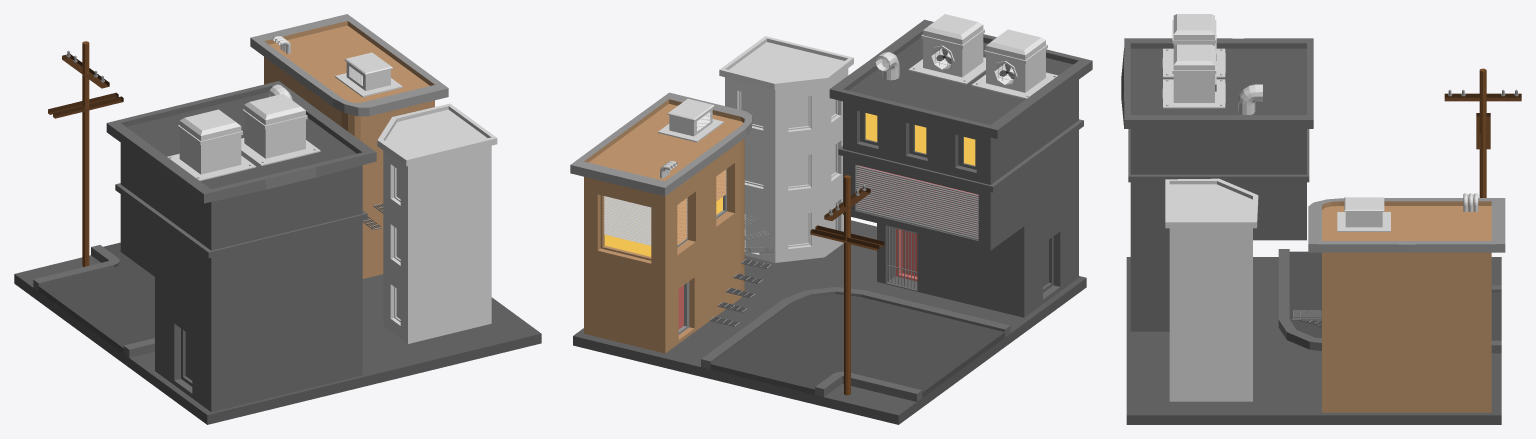
Rendered from cyber.glb.
3 renders of one model, left to right at view 1: azimuth 30°, elevation 25°; view 2: azimuth 150°, elevation 25°; view 3: azimuth 270°, elevation 25°, orthographic. The views are drawn at different scales.
Visible parts, largest first — view 1: Cube.001, Cube.002, Cube, Plane, Plane.001, Cube.005, Cube.006, Plane.009, Cube.007; view 2: Cube.001, Cube, Plane.001, Cube.002, Plane, Vert.005, Cube.006, Cube.005, Plane.009, story.002, Cube.007, Cube.003 (+3 smaller); view 3: Cube, Cube.001, Cube.002, Plane, Plane.001, Cube.006, Cube.005, Plane.009, Cube.007, Vert.001.
Part boxes in pixels (box(x1,y1,x2,y2)): Cube.001: box(106, 81, 376, 411); Cube.002: box(377, 103, 497, 343); Cube: box(250, 14, 448, 278); Plane: box(14, 255, 541, 424); Plane.001: box(33, 242, 154, 357); Cube.005: box(167, 109, 256, 180); Cube.006: box(241, 93, 320, 165); Plane.009: box(48, 41, 123, 266); Cube.007: box(335, 52, 402, 97); Cube.001: box(829, 19, 1092, 317); Cube: box(570, 92, 752, 353); Plane.001: box(701, 287, 1010, 401); Cube.002: box(719, 36, 853, 262); Plane: box(573, 220, 1086, 424); Vert.005: box(855, 165, 978, 239); Cube.006: box(908, 14, 985, 84); Cube.005: box(971, 29, 1057, 98); Plane.009: box(810, 175, 884, 395); story.002: box(604, 196, 651, 245); Cube.007: box(658, 98, 723, 142); Cube.003: box(888, 227, 914, 288); Cube: box(1308, 198, 1505, 412); Cube.001: box(1121, 38, 1313, 331); Cube.002: box(1165, 178, 1258, 401); Plane: box(1126, 257, 1501, 424); Plane.001: box(1278, 249, 1501, 353); Cube.006: box(1162, 44, 1225, 108); Cube.005: box(1162, 14, 1225, 77); Plane.009: box(1444, 68, 1521, 197); Cube.007: box(1337, 197, 1390, 231); Vert.001: box(1238, 84, 1262, 114).
Size of the model in its own units: 8.14 by 6.18 by 8.54.
